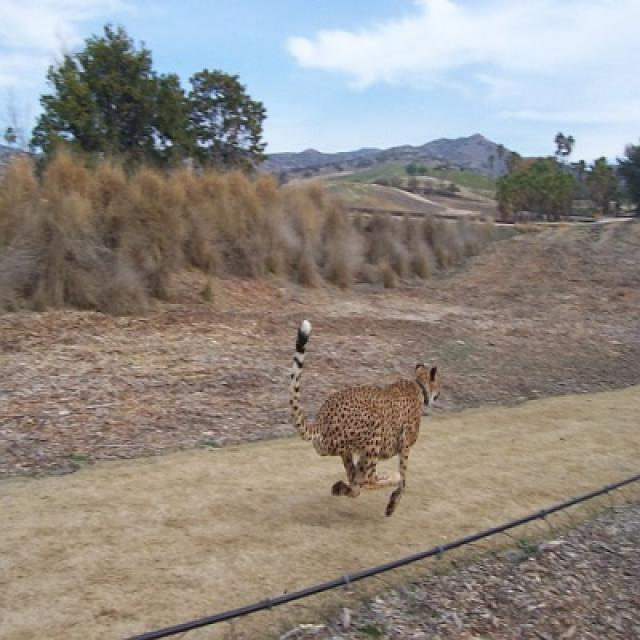Cheetah: (291, 320, 440, 518)
